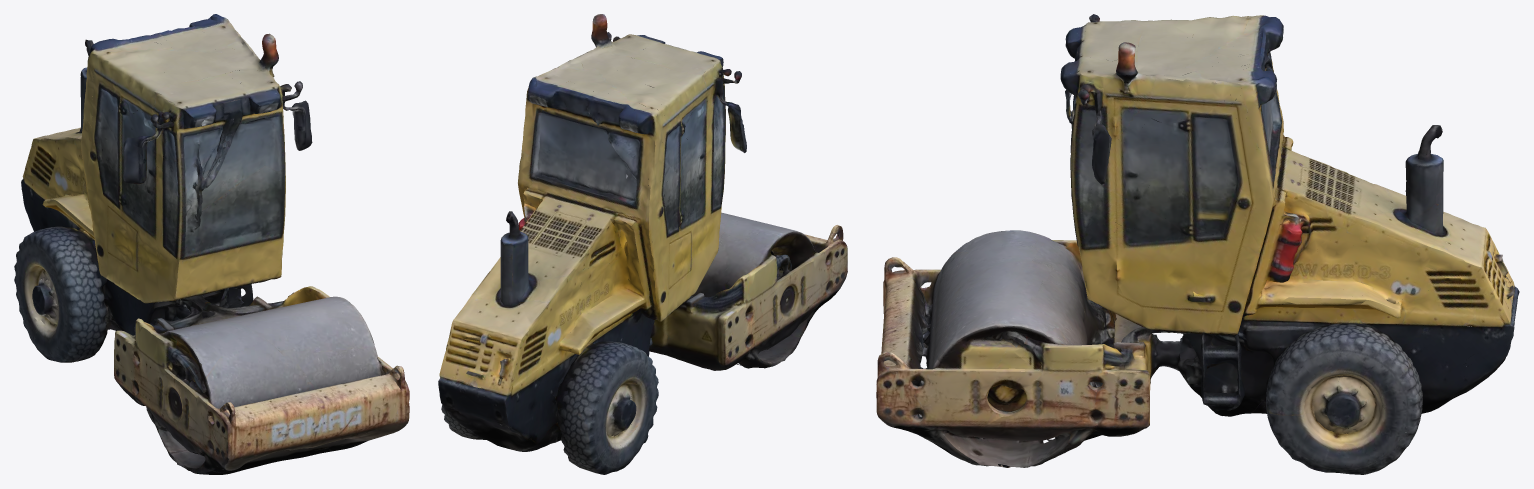
Rendered from roller-smooth-drum.glb.
3 views of the same model, side by side, from view 1: azimuth 30°, elevation 25°; view 2: azimuth 150°, elevation 25°; view 3: azimuth 270°, elevation 25° (orthographic). The views are drawn at different scales.
Visible parts, largest first — view 1: Object_2, Object_3; view 2: Object_2, Object_3; view 3: Object_2, Object_3.
Boxes of the visible parts, box(x1,y1,x2,y2) form: Object_2: box(14, 25, 409, 474); Object_3: box(22, 14, 308, 357); Object_2: box(438, 42, 847, 474); Object_3: box(438, 14, 746, 470); Object_2: box(876, 14, 1519, 474); Object_3: box(1060, 15, 1514, 472).
Size of the model in its own units: 4.39 by 8.09 by 11.39.
1 material, 1 textured.
